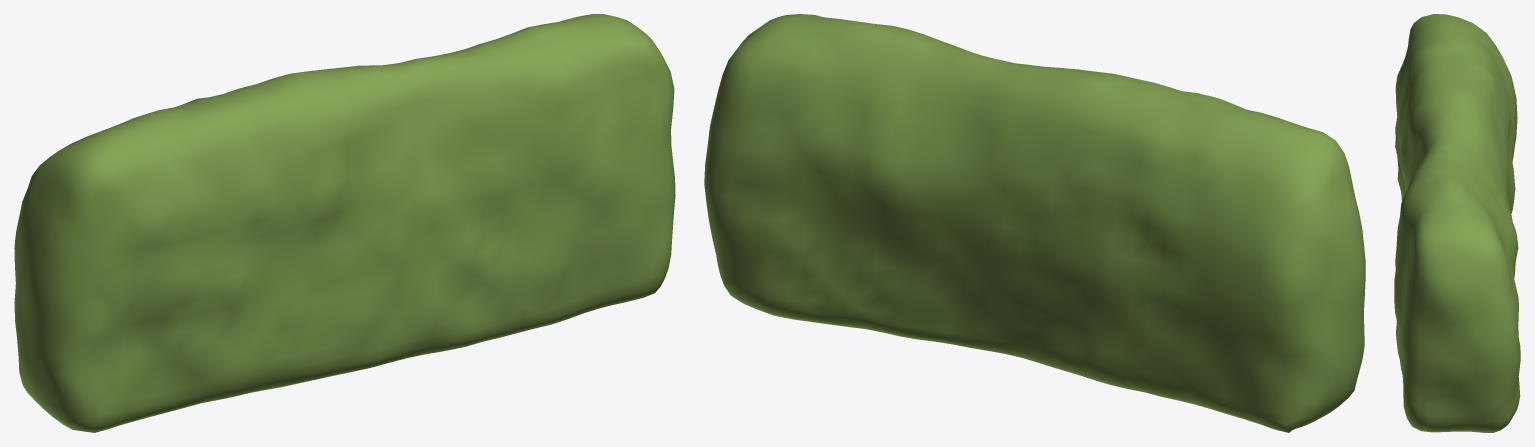
Rendered from Hedge_MDL.fbx.
The picture shows the model from 3 angles, left to right: view 1: azimuth 30°, elevation 25°; view 2: azimuth 150°, elevation 25°; view 3: azimuth 270°, elevation 25°; orthographic projection. The views are drawn at different scales.
Visible parts, largest first — view 1: Hedge_MDL; view 2: Hedge_MDL; view 3: Hedge_MDL.
Part boxes in pixels (x1,y1,x2,y2): Hedge_MDL: (14, 14, 675, 432); Hedge_MDL: (704, 14, 1365, 432); Hedge_MDL: (1394, 14, 1520, 432).
Size of the model in its own units: 213 by 93.06 by 47.37.
